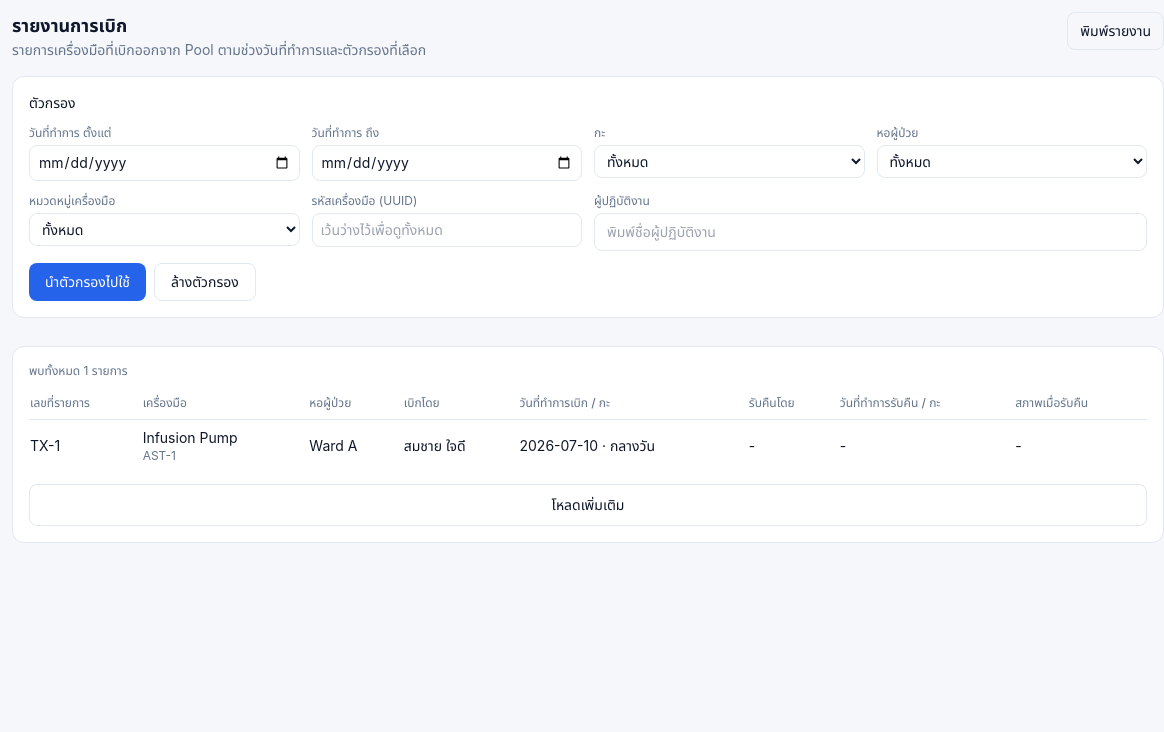
Test: IssueReportPage › appends cursor pages in backend order without re-sorting, merging, or reversing
This screenshot has width=1164, height=732.
Expected: the text "TX-1" is shown, x1=29 y1=420 x2=142 y2=472
Click the button "โหลดเพิ่มเติม". click: (588, 505)
box: x1=29 y1=484 x2=1147 y2=526
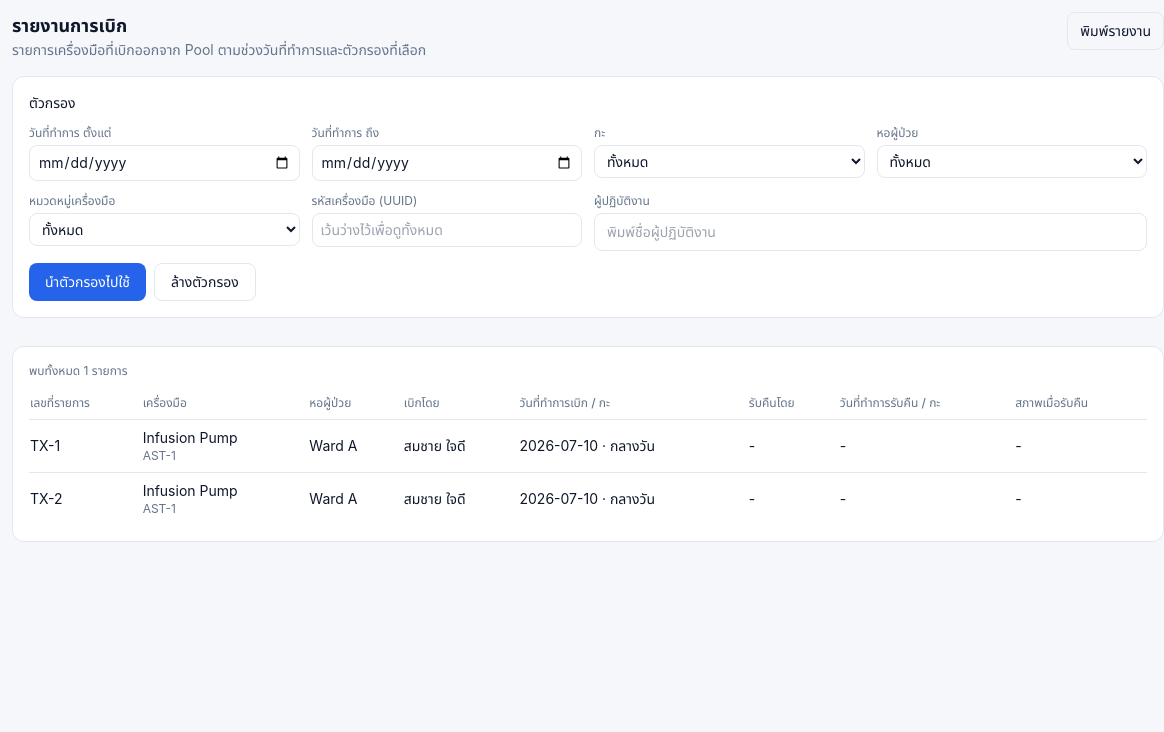
Result: the text "TX-2" is shown at x1=29 y1=472 x2=142 y2=525
Result: the row that starts with "TX-2" is shown at x1=30 y1=490 x2=63 y2=507
Result: the button "โหลดเพิ่มเติม" is gone
